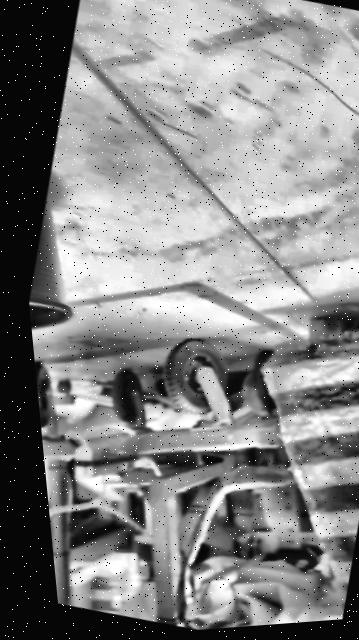pot: (20, 203, 99, 339)
